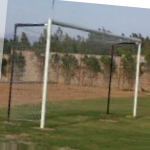goals: (6, 17, 146, 133)
